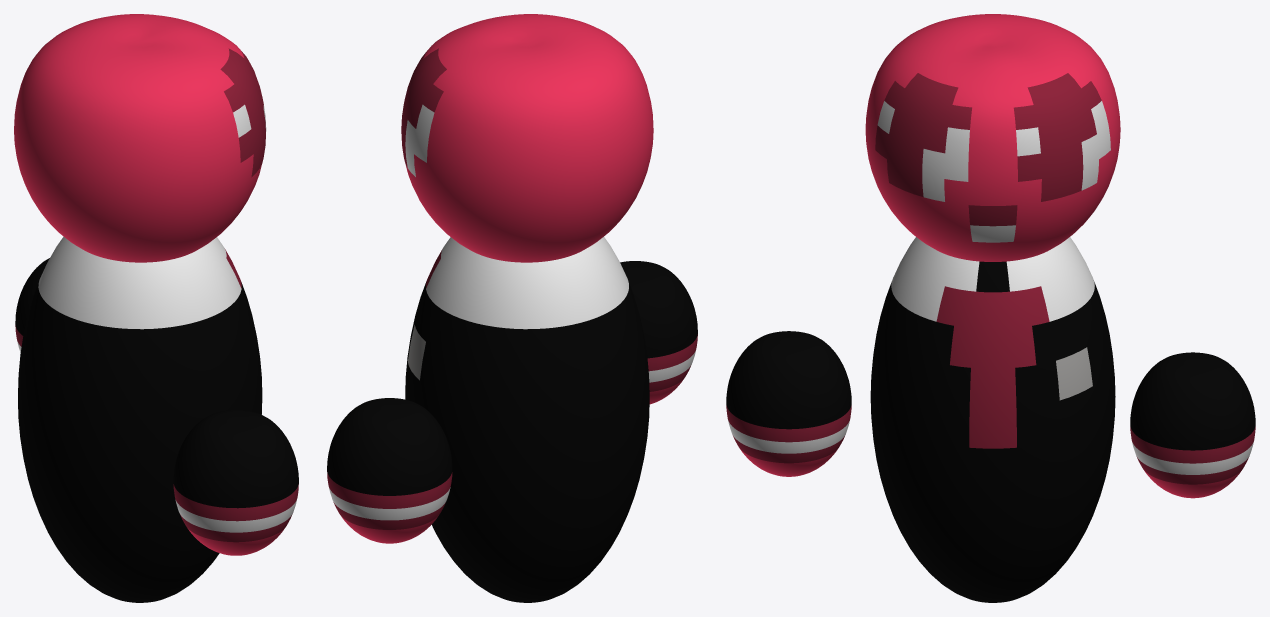
File: executingred.fbx
3 renders of one model, left to right at view 1: azimuth 30°, elevation 25°; view 2: azimuth 150°, elevation 25°; view 3: azimuth 270°, elevation 25°, orthographic.
Visible parts, largest first — view 1: Body, Head, Arm 1, Arm 2; view 2: Body, Head, Arm 2, Arm 1; view 3: Body, Head, Arm 2, Arm 1.
Part boxes in pixels (left/top/right/bottom): Body: left=18, top=236, right=262, bottom=602; Head: left=14, top=14, right=266, bottom=262; Arm 1: left=173, top=410, right=298, bottom=555; Arm 2: left=15, top=258, right=49, bottom=352; Body: left=405, top=237, right=649, bottom=602; Head: left=401, top=14, right=653, bottom=262; Arm 2: left=327, top=398, right=452, bottom=543; Arm 1: left=620, top=261, right=697, bottom=404; Body: left=870, top=237, right=1115, bottom=602; Head: left=865, top=14, right=1120, bottom=261; Arm 2: left=1130, top=352, right=1255, bottom=498; Arm 1: left=726, top=331, right=851, bottom=476.
Size of the model in its own units: 203 by 497 by 427.
